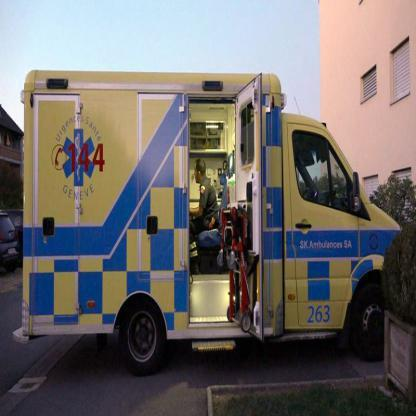Ambulance - v1 Ambulance last generate: (13, 58, 405, 374)
